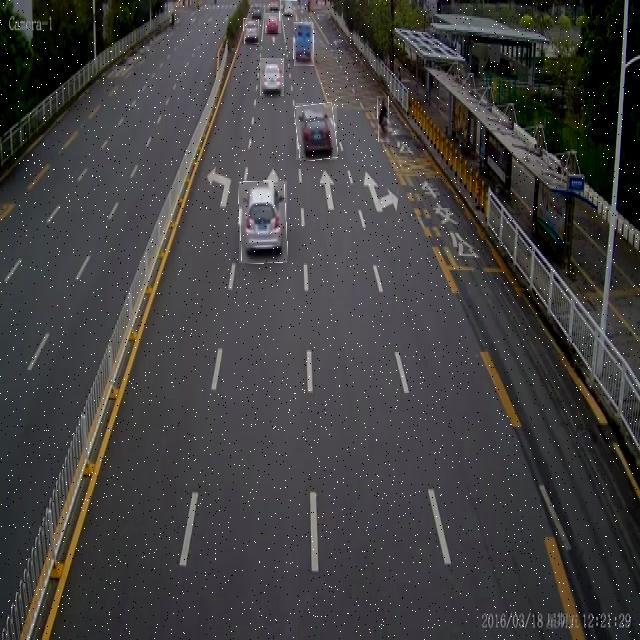Car: (239, 181, 287, 263), (296, 103, 337, 160), (260, 58, 284, 96), (244, 18, 259, 44), (280, 0, 297, 21), (265, 13, 281, 33)
Motorcycle: (378, 96, 389, 142)
Truck: (294, 22, 314, 66)
